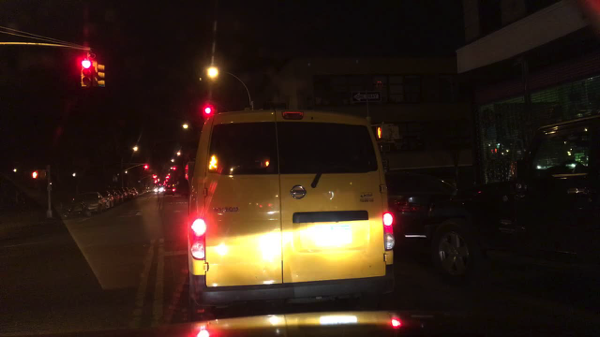car: (182, 110, 397, 314), (434, 114, 599, 289), (386, 170, 461, 247), (66, 191, 108, 218), (97, 190, 115, 209), (162, 185, 177, 197), (109, 190, 120, 205), (120, 187, 129, 201), (129, 187, 139, 198), (116, 191, 125, 203), (136, 187, 147, 196), (124, 186, 132, 198), (154, 187, 164, 193), (143, 187, 151, 194)
traffic light: (79, 58, 94, 88), (94, 62, 108, 88), (374, 125, 383, 141), (202, 105, 213, 115), (32, 170, 38, 179), (172, 163, 176, 171), (144, 163, 149, 169)
traffic sign: (348, 90, 382, 104), (378, 123, 402, 141), (380, 144, 391, 154)
